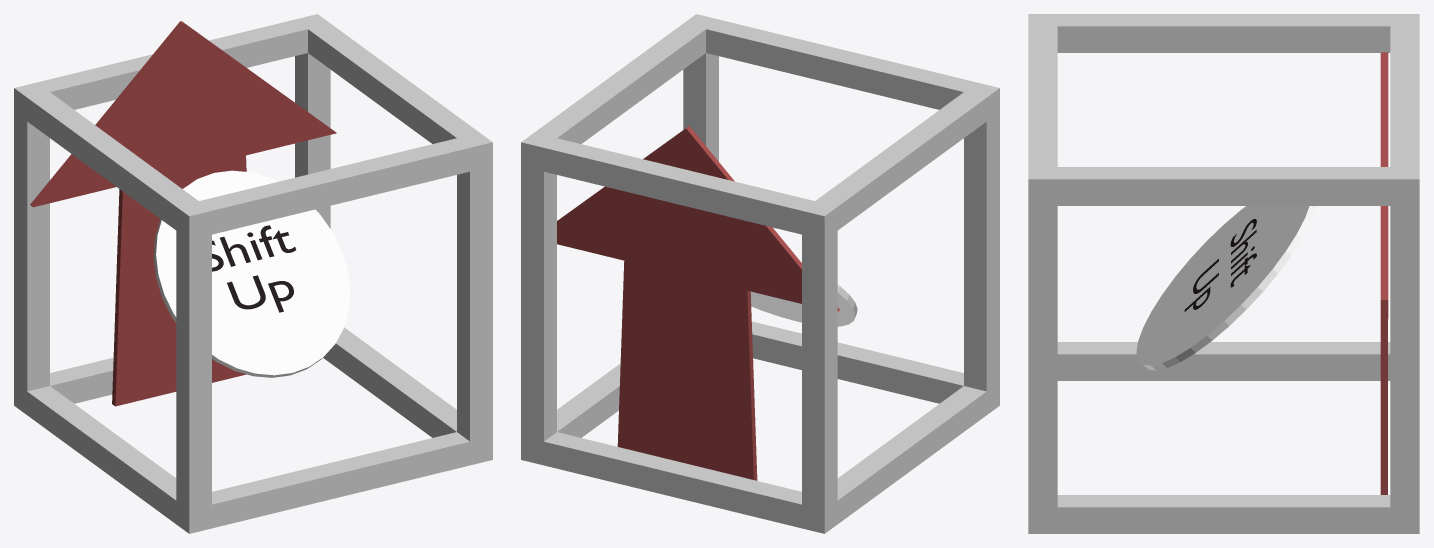
The model's file is MoveUp.glb.
3 views of the same model, side by side, from view 1: azimuth 30°, elevation 25°; view 2: azimuth 150°, elevation 25°; view 3: azimuth 270°, elevation 25° (orthographic). The views are drawn at different scales.
Parts seen in each view (by area): view 1: Cube Frame, arrow, Cylinder.001, Text.001; view 2: Cube Frame, arrow, Cylinder.001; view 3: Cube Frame, Cylinder.001, arrow, Text.001.
Boxes of the visible parts, left/top/right/bottom form: Cube Frame: left=14, top=14, right=492, bottom=533; arrow: left=30, top=21, right=336, bottom=406; Cylinder.001: left=153, top=170, right=350, bottom=377; Text.001: left=212, top=225, right=296, bottom=312; Cube Frame: left=521, top=14, right=999, bottom=533; arrow: left=557, top=126, right=839, bottom=480; Cylinder.001: left=750, top=261, right=857, bottom=326; Cube Frame: left=1028, top=14, right=1419, bottom=533; Cylinder.001: left=1136, top=206, right=1315, bottom=370; arrow: left=1380, top=52, right=1388, bottom=494; Text.001: left=1184, top=219, right=1256, bottom=311.
Bounding box in the file's own units: 2.01 × 2.3 × 2.
